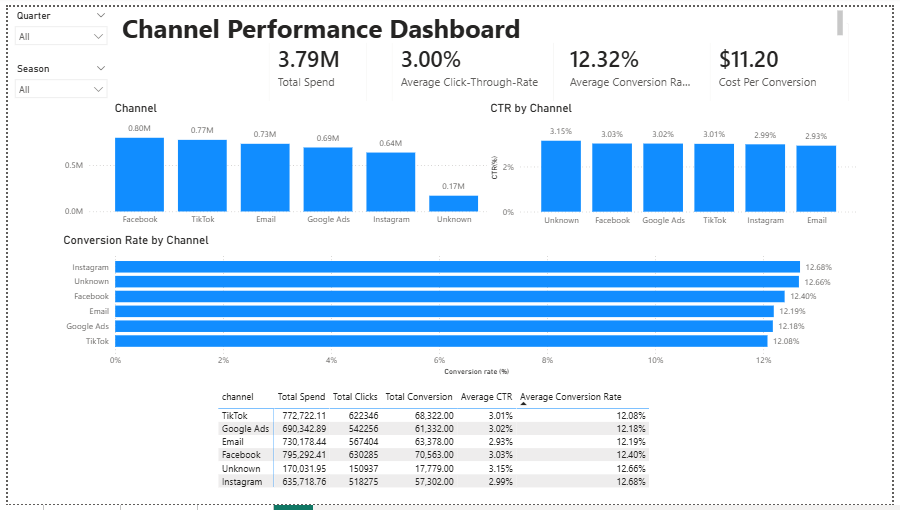

The dashboard page shown, as its layout file describes it:
{"tool":"powerbi","page":{"name":"Page 2","canvas":[1280,720],"ordinal":1},"visuals":[{"type":"cardVisual","fields":{"Data":["key measures.Total Spend"]},"box":[361.5,5.8,176.9,155.8],"z":0},{"type":"cardVisual","fields":{"Data":["key measures.Average Conversion Rate"]},"box":[784.6,5.8,234.6,155.8],"z":1000},{"type":"cardVisual","fields":{"Data":["key measures.Average CTR"]},"box":[538.5,5.8,269.2,155.8],"z":2000},{"type":"cardVisual","fields":{"Data":["key measures.Cost Per Conversion"]},"box":[1000,5.8,236.5,155.8],"z":3000},{"type":"clusteredColumnChart","title":"Spend by Channel","fields":{"Category":["public dim_channel.channel"],"Y":["key measures.Total Spend"]},"box":[76.3,136.8,648,190.1],"z":4000},{"type":"clusteredColumnChart","title":"CTR by Channel","fields":{"Category":["public dim_channel.channel"],"Y":["key measures.Average CTR"]},"box":[694.2,136.5,542.3,190.4],"z":5000},{"type":"clusteredBarChart","title":"Conversion Rate by Channel","fields":{"Category":["public dim_channel.channel"],"Y":["key measures.Average Conversion Rate"]},"box":[75.9,327.6,1144.8,212.1],"z":6000},{"type":"pivotTable","fields":{"Rows":["public dim_channel.channel"],"Values":["key measures.Total Spend","key measures.Total Clicks","key measures.Total Conversion","key measures.Average CTR","key measures.Average Conversion Rate"]},"box":[300,550,921.2,155.8],"z":7000},{"type":"textbox","box":[161.5,0,1053.8,51.9],"z":8000},{"type":"slicer","fields":{"Values":["public dim_date.quarter"]},"box":[0,0,153.8,84.6],"z":9000},{"type":"slicer","fields":{"Values":["public dim_campaign.season"]},"box":[0,76.9,153.8,84.6],"z":10000}]}

Visuals, with their boxes in screenshot pixels (x1, y1, x2, y2), scaled from the page's 1280x720 canvas onto the 900x510 screenshot:
cardVisual - key measures.Total Spend: select_region(254, 4, 379, 114)
cardVisual - key measures.Average Conversion Rate: select_region(552, 4, 717, 114)
cardVisual - key measures.Average CTR: select_region(379, 4, 568, 114)
cardVisual - key measures.Cost Per Conversion: select_region(703, 4, 869, 114)
"Spend by Channel" clusteredColumnChart: select_region(54, 97, 509, 232)
"CTR by Channel" clusteredColumnChart: select_region(488, 97, 869, 232)
"Conversion Rate by Channel" clusteredBarChart: select_region(53, 232, 858, 382)
pivotTable - public dim_channel.channel x key measures.Total Spend: select_region(211, 390, 859, 500)
textbox: select_region(114, 0, 855, 37)
slicer - public dim_date.quarter: select_region(0, 0, 108, 60)
slicer - public dim_campaign.season: select_region(0, 54, 108, 114)
